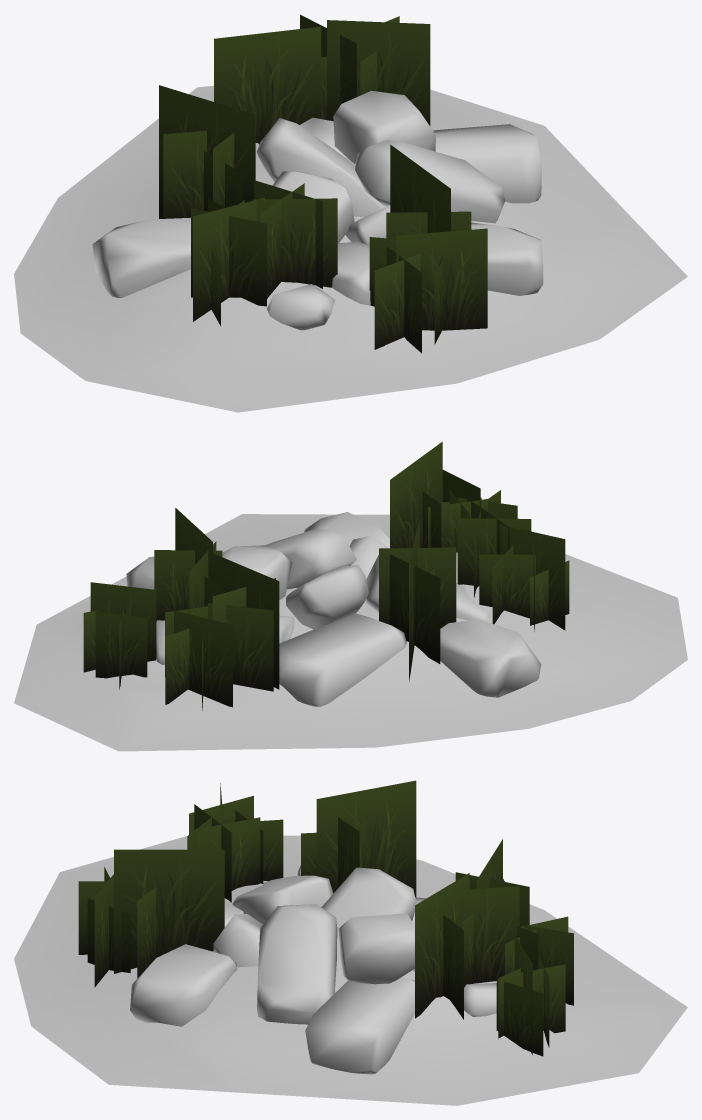
The model's file is Soil_Bricks_Grass_06.fbx.
3 renders of one model, top to bottom at view 1: azimuth 30°, elevation 25°; view 2: azimuth 150°, elevation 25°; view 3: azimuth 270°, elevation 25°, orthographic. The views are drawn at different scales.
Visible parts, largest first — view 1: Soil_Bricks_Grass_06_LOD0; view 2: Soil_Bricks_Grass_06_LOD0; view 3: Soil_Bricks_Grass_06_LOD0.
Boxes of the visible parts, left/top/right/bottom form: Soil_Bricks_Grass_06_LOD0: left=14, top=14, right=687, bottom=412; Soil_Bricks_Grass_06_LOD0: left=14, top=441, right=687, bottom=751; Soil_Bricks_Grass_06_LOD0: left=14, top=780, right=687, bottom=1105.
Size of what is drawn, in the model's own units: 7.52 by 1.94 by 7.92.
